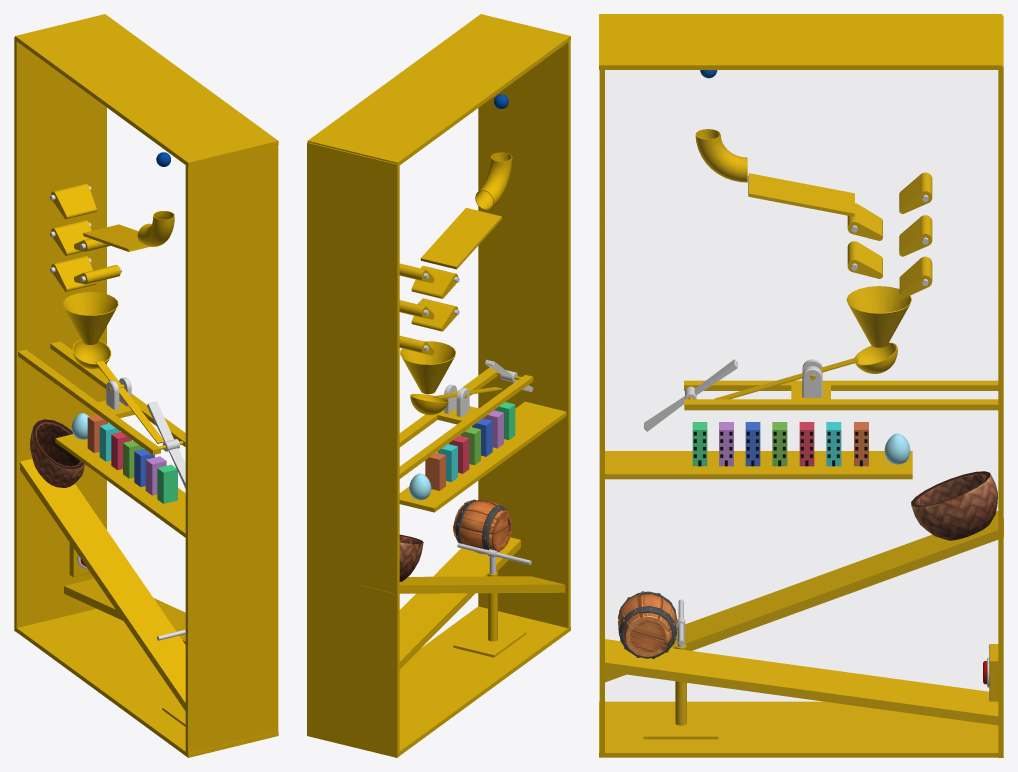
3 renders of one model, left to right at view 1: azimuth 30°, elevation 25°; view 2: azimuth 150°, elevation 25°; view 3: azimuth 270°, elevation 25°, orthographic. The views are drawn at different scales.
Parts seen in each view (by area): view 1: Masina_1_ram, Postolje2, Postolje_novo, Postolje1, Korpa, Levak, Kasinka_nova, Postolje3, Fliper4, Dascica_1, Fliper3, Elise (+10 smaller); view 2: Masina_1_ram, Postolje3, Postolje_novo, Postolje1, Postolje2, Burence, Dascica_1, Stalak, Levak, Tunel, Fliper, Fliper5 (+11 smaller); view 3: Masina_1_ram, Postolje3, Postolje2, Postolje_novo, Postolje1, Korpa, Burence, Levak, Dascica_1, Stalak, Kasinka_nova, Tunel (+13 smaller).
Part boxes in pixels (x1,y1,x2,y2): Masina_1_ram: (14,14,278,757); Postolje2: (20,458,185,710); Postolje_novo: (18,341,185,454); Postolje1: (55,434,185,537); Korpa: (30,419,84,487); Levak: (62,292,118,344); Kasinka_nova: (72,339,164,443); Postolje3: (64,578,185,644); Fliper4: (49,183,96,218); Dascica_1: (83,224,149,251); Fliper3: (50,256,96,291); Elise: (147,401,185,488); Masina_1_ram: (307,14,570,757); Postolje3: (399,537,520,669); Postolje_novo: (399,367,533,478); Postolje1: (399,401,566,512); Postolje2: (360,576,565,593); Burence: (453,499,512,554); Dascica_1: (420,207,502,269); Stalak: (453,571,526,657); Levak: (400,341,455,394); Tunel: (475,152,512,210); Fliper: (411,266,459,298); Fliper5: (411,298,459,331); Masina_1_ram: (599,14,1003,757); Postolje3: (605,639,998,725); Postolje2: (605,511,1003,682); Postolje_novo: (684,359,998,410); Postolje1: (605,451,912,479); Korpa: (911,471,997,540); Burence: (618,591,677,658); Levak: (846,286,911,347); Dascica_1: (748,173,854,216); Stalak: (643,644,718,739); Kasinka_nova: (714,342,897,399); Tunel: (695,129,747,182).
Size of the model in its own units: 0.0794 by 0.4906 by 0.2598.
Materials: 17 (10 with a texture image).
